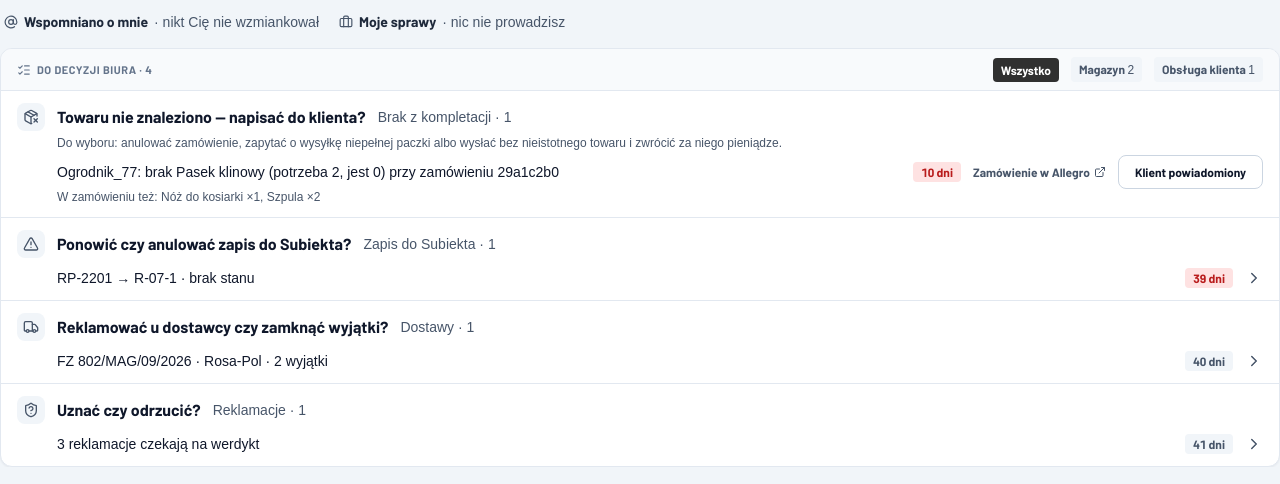
it: BRAK Z KOMPLETACJI › „Klient powiadomiony” wysyła jeden POST z wejściem w status, a wiersz schodzi
Click the button "Klient powiadomiony".
click(1190, 172)  # box [1118,155,1263,189]
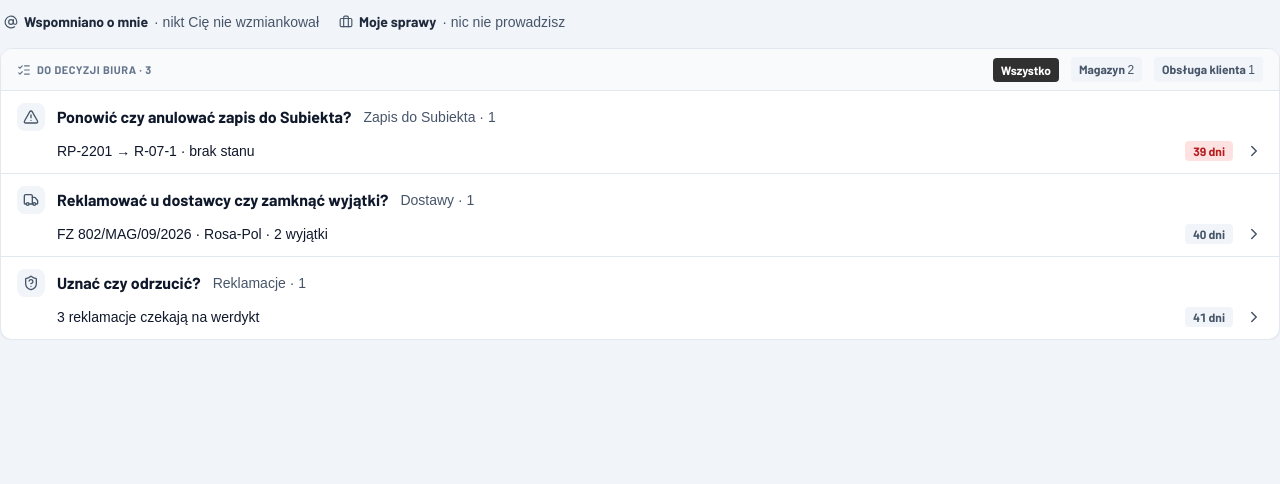
Now the text "Towaru nie znaleziono — napisać do klienta?" is gone
